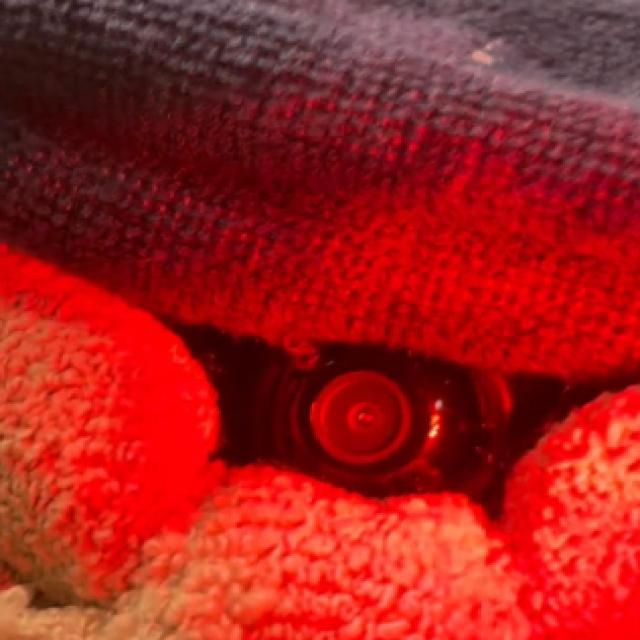hidden camera: (306, 363, 416, 466)
